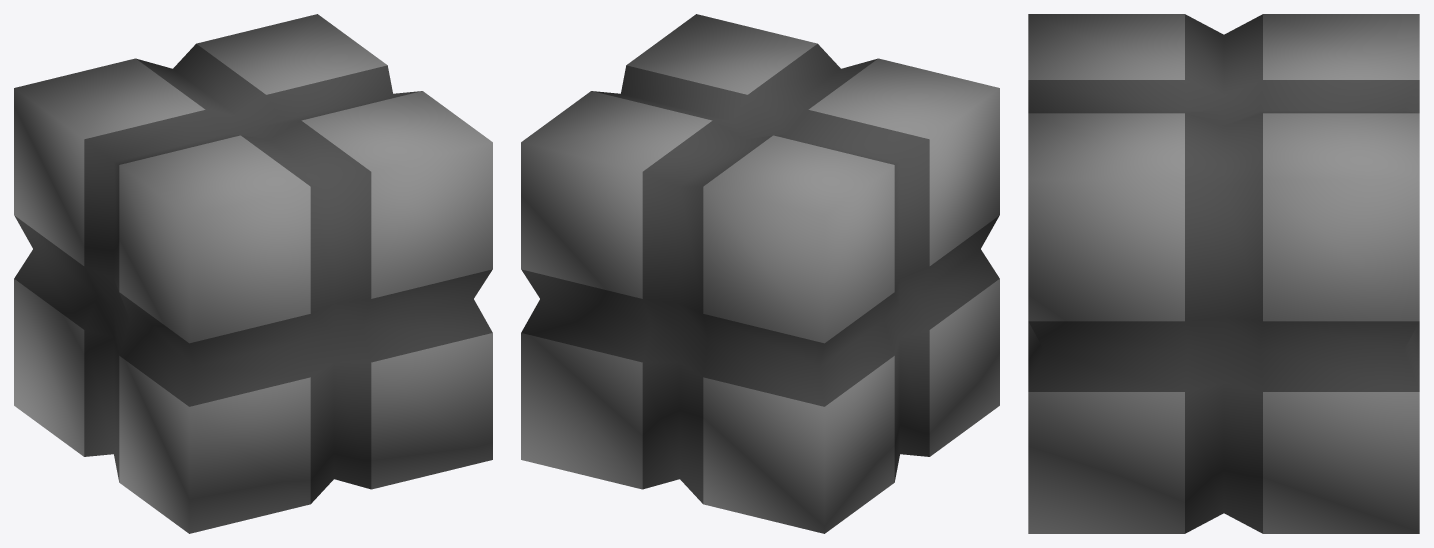
Rendered from SciFiBox.fbx.
3 renders of one model, left to right at view 1: azimuth 30°, elevation 25°; view 2: azimuth 150°, elevation 25°; view 3: azimuth 270°, elevation 25°, orthographic. The views are drawn at different scales.
Parts seen in each view (by area): view 1: scifi-box-divided; view 2: scifi-box-divided; view 3: scifi-box-divided.
Boxes of the visible parts, x1,y1,x2,y2 form: scifi-box-divided: (14,14,492,533); scifi-box-divided: (521,14,999,533); scifi-box-divided: (1028,14,1419,533).
Size of the model in its own units: 100 by 100 by 100.
Materials: 1 (1 with a texture image).
